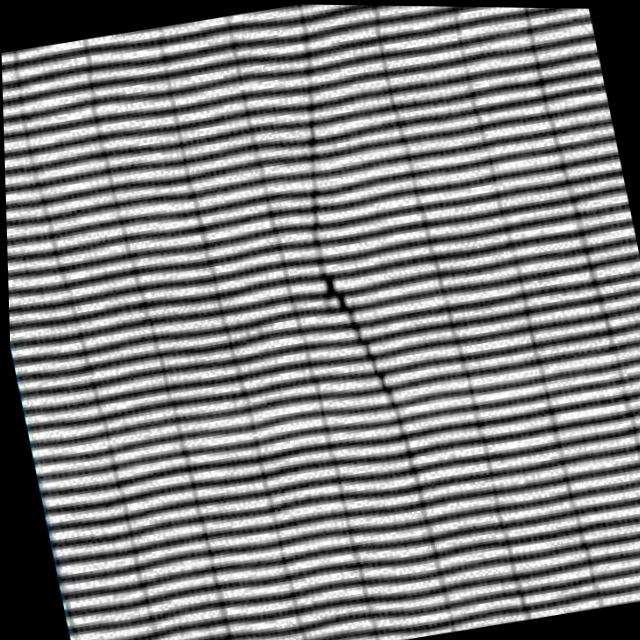Stitch: (263, 111, 420, 468)
